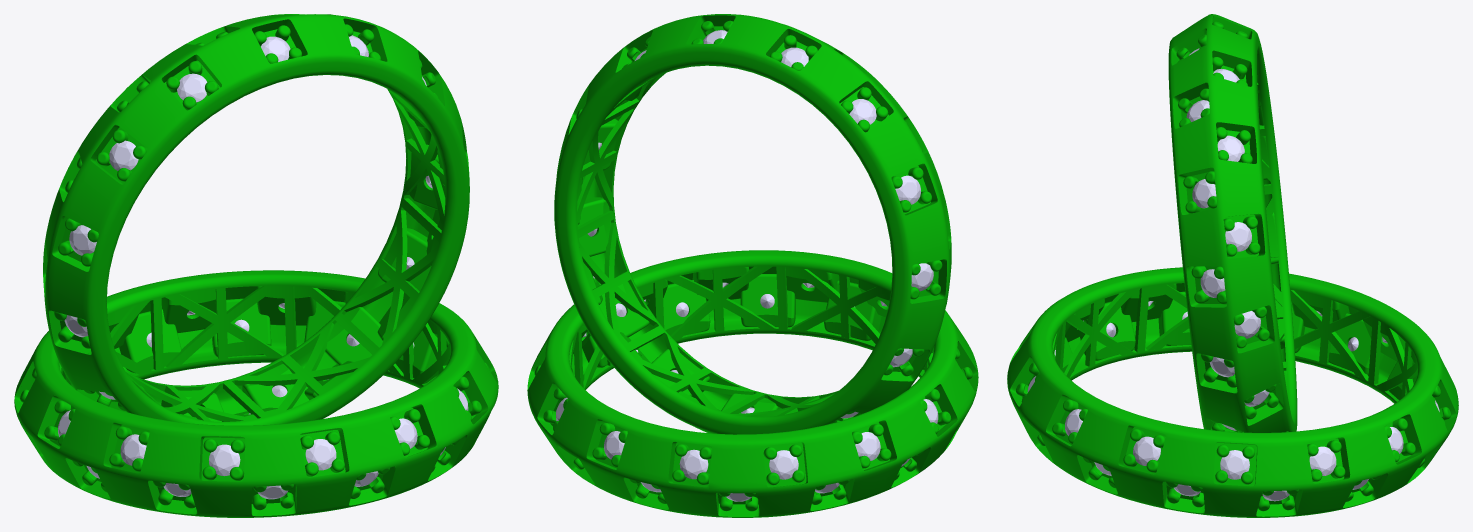
The picture shows the model from 3 angles, left to right: view 1: azimuth 30°, elevation 25°; view 2: azimuth 150°, elevation 25°; view 3: azimuth 270°, elevation 25°; orthographic projection. The views are drawn at different scales.
Visible parts, largest first — view 1: RNG-2510059_3D.3dm; view 2: RNG-2510059_3D.3dm; view 3: RNG-2510059_3D.3dm.
Boxes of the visible parts, x1,y1,x2,y2 form: RNG-2510059_3D.3dm: (14, 14, 498, 517); RNG-2510059_3D.3dm: (527, 14, 978, 517); RNG-2510059_3D.3dm: (1007, 14, 1458, 517).
Bounding box in the file's own units: 2.31 × 2.3 × 2.31.
